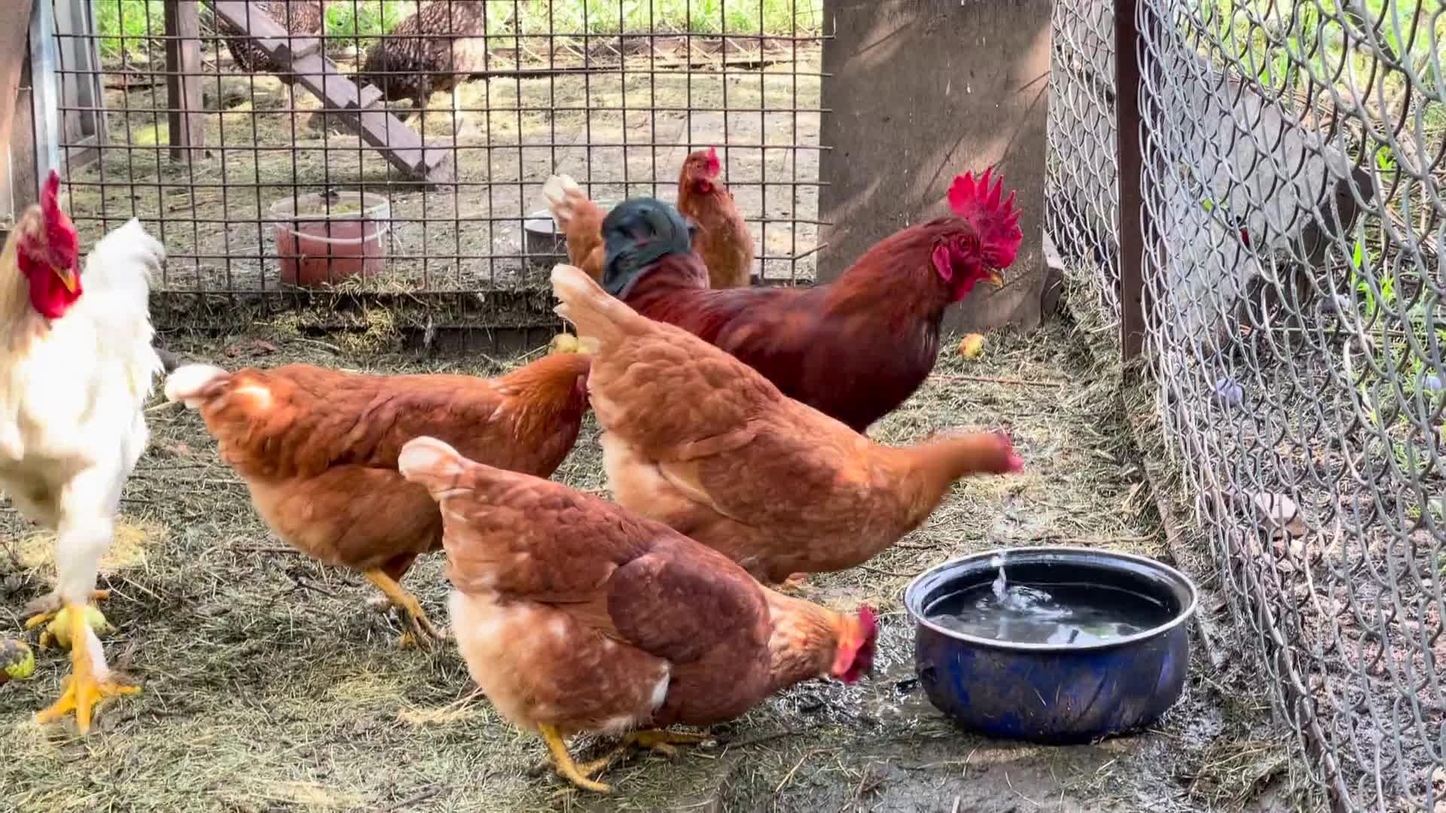Normal: (390, 416, 881, 792), (531, 256, 1027, 586), (177, 309, 599, 654), (607, 185, 1042, 453), (4, 157, 170, 740), (520, 149, 795, 328)
